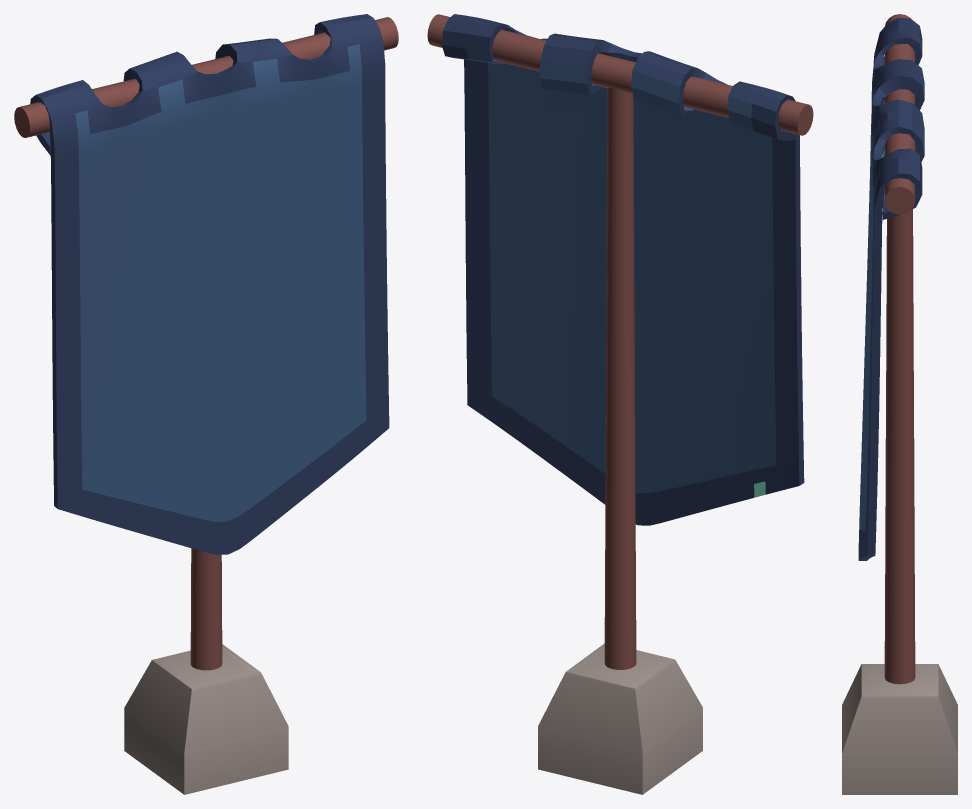
Rendered from Bandeira1.fbx.
3 renders of one model, left to right at view 1: azimuth 30°, elevation 25°; view 2: azimuth 150°, elevation 25°; view 3: azimuth 270°, elevation 25°, orthographic. The views are drawn at different scales.
Visible parts, largest first — view 1: Bandeira1; view 2: Bandeira1; view 3: Bandeira1.
Part boxes in pixels (<box>): Bandeira1: <box>14,14,398,794</box>; Bandeira1: <box>427,14,813,794</box>; Bandeira1: <box>842,14,957,794</box>.
Bounding box in the file's own units: 1 × 1.84 × 0.283.
